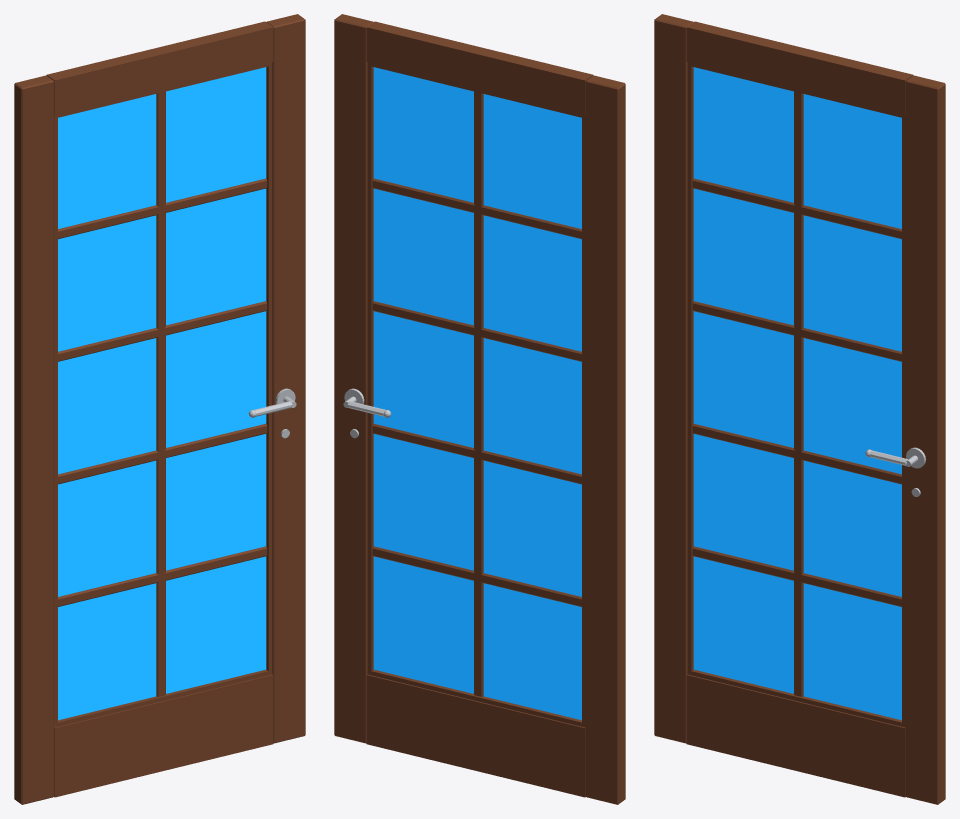
File: porta_vidro_10_madeira.glb
The picture shows the model from 3 angles, left to right: view 1: azimuth 30°, elevation 25°; view 2: azimuth 150°, elevation 25°; view 3: azimuth 330°, elevation 25°; orthographic projection.
Parts seen in each view (by area): view 1: porta_vidro_10_madeira; view 2: porta_vidro_10_madeira; view 3: porta_vidro_10_madeira.
Part boxes in pixels (x1,y1,x2,y2): porta_vidro_10_madeira: [14, 14, 305, 804]; porta_vidro_10_madeira: [334, 14, 625, 804]; porta_vidro_10_madeira: [654, 14, 945, 804].
Bounding box in the file's own units: 0.86 × 2.07 × 0.143.
